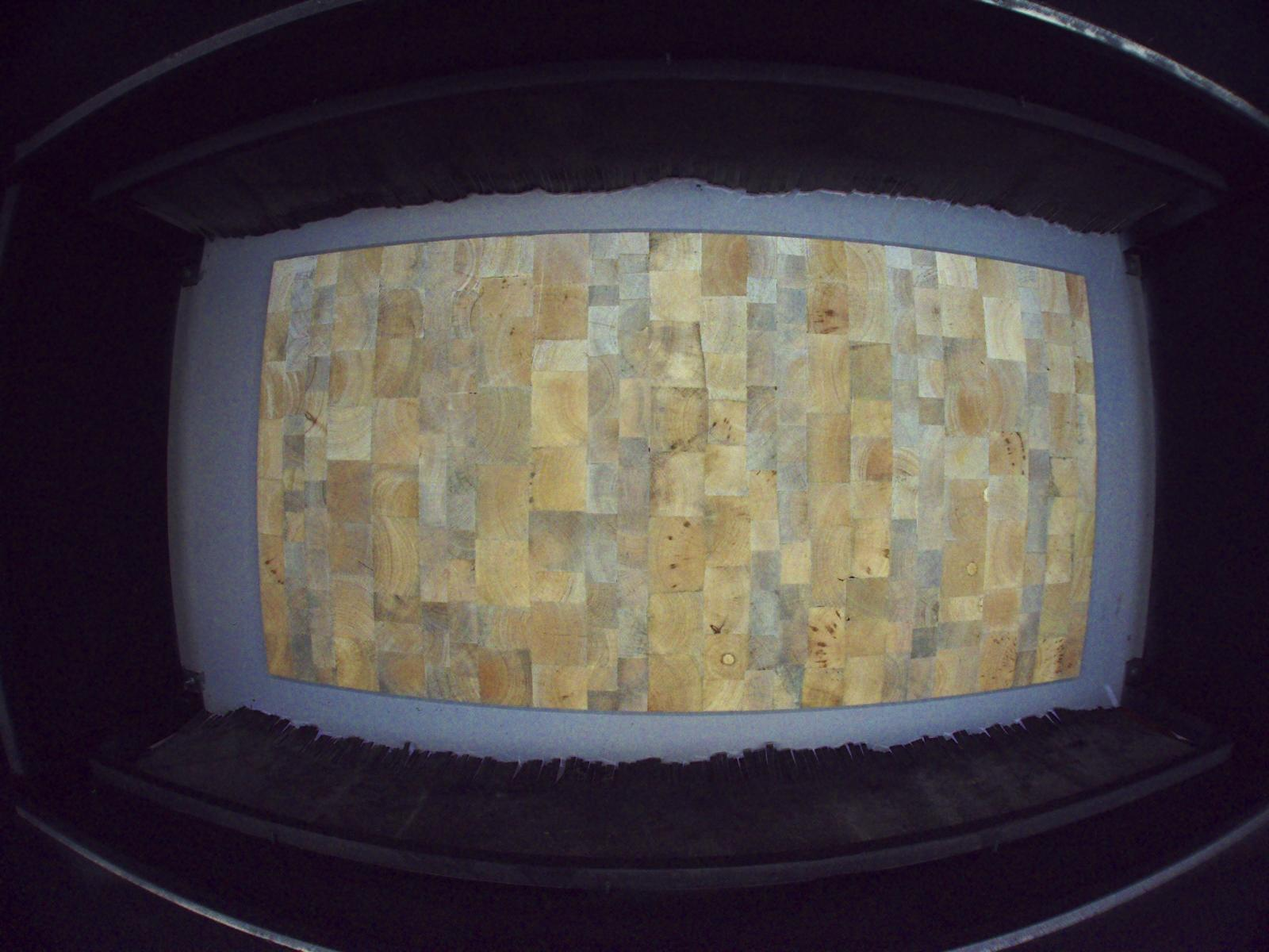sheck_ecuatoriano: (709, 613, 730, 635)
